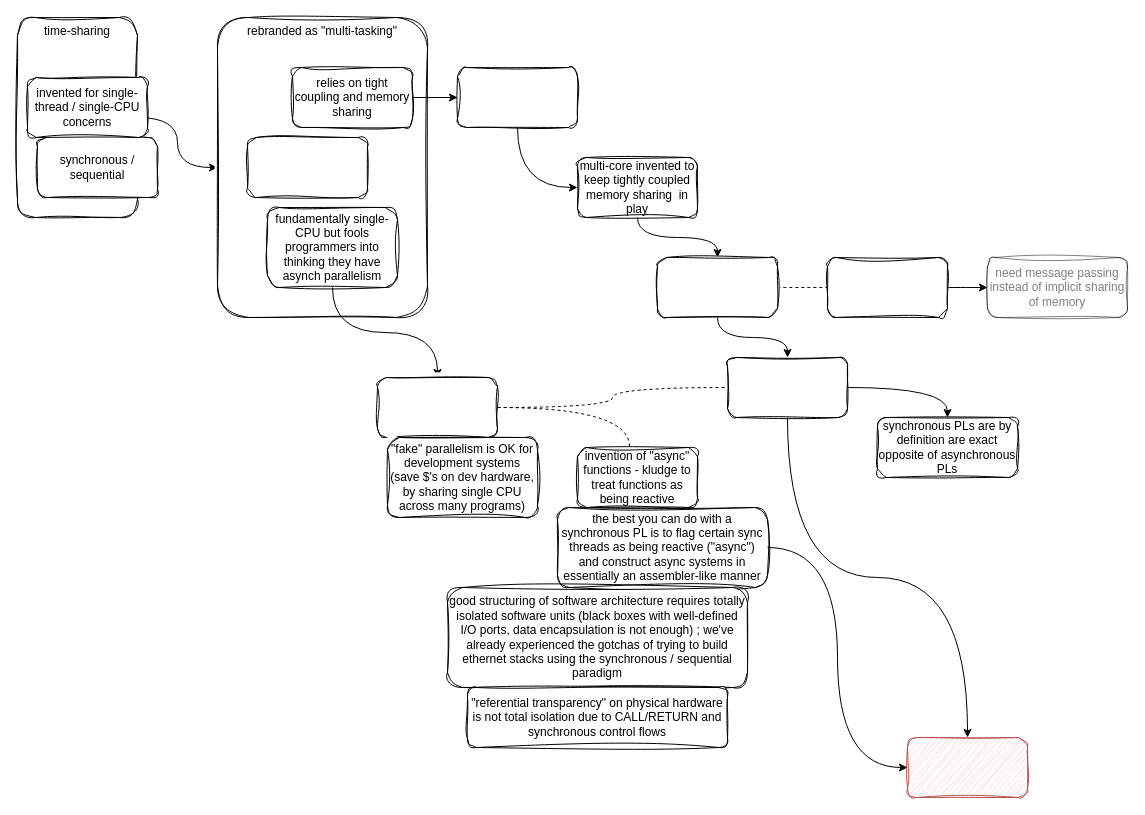
The diagram is 1145 pixels wide and 815 high, and some of its shapes have lost their labels. The shapes that lost their labels are listed below. From the top down, each one's centre as x and y in pixels, then its label:
(517,97): lots of unexpected gotchas, e.g. "thread safety"
(307,167): remains synchronous / sequential
(717,287): multi-core kludged to decouple memory sharing through addition of L1 caches
(887,287): L2, L3, ... caches still imply tightly coupled memory sharing
(437,407): "fake" parallelism, not physical parallelism
(787,387): distributed programming - more gotchas, e.g. cache coherency
(967,767): Dead End - distributed machines across large distances
